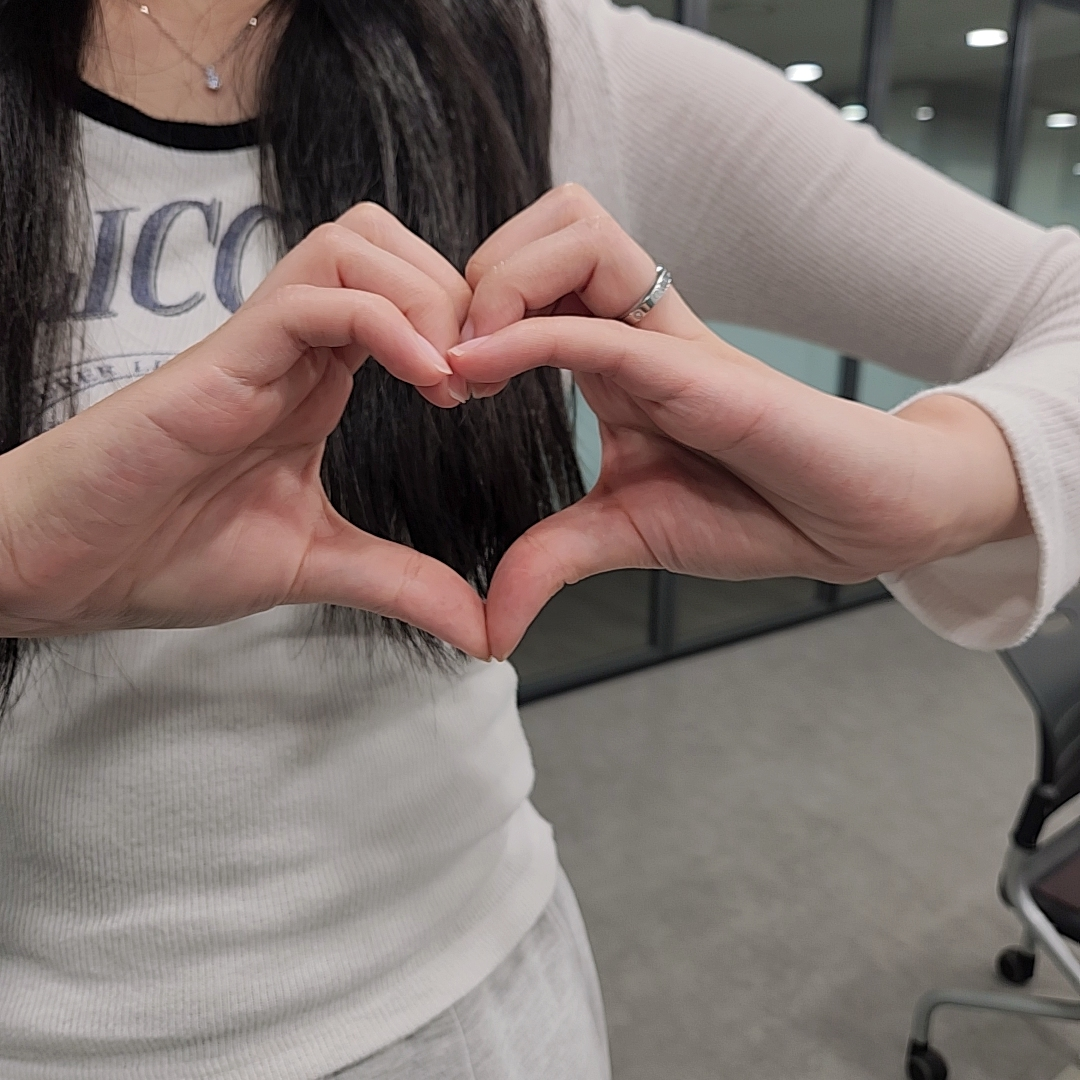heart: (38, 184, 894, 662)
